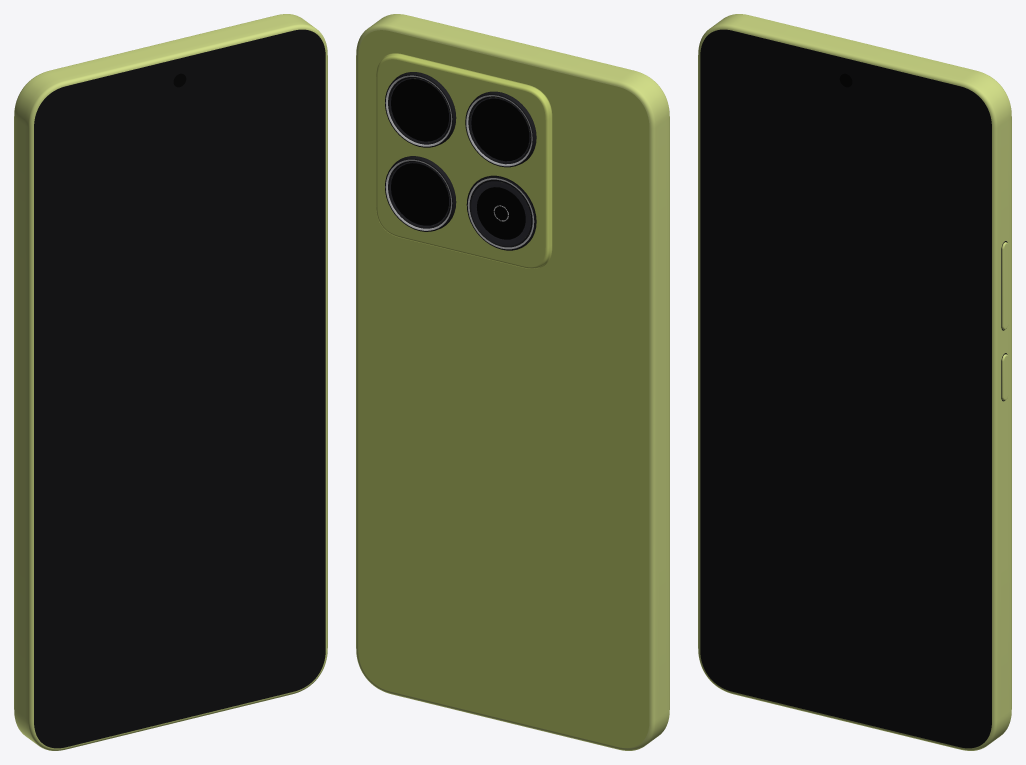
Rendered from xiaomi-14t.glb.
3 renders of one model, left to right at view 1: azimuth 30°, elevation 25°; view 2: azimuth 150°, elevation 25°; view 3: azimuth 330°, elevation 25°, orthographic.
Parts seen in each view (by area): view 1: body; view 2: body, camera; view 3: body, buttons.
Boxes of the visible parts, x1,y1,x2,y2 form: body: [14, 14, 327, 750]; body: [356, 14, 669, 750]; camera: [376, 53, 552, 268]; body: [698, 14, 1011, 750]; buttons: [1001, 241, 1008, 401].
Bounding box in the file's own units: 75.53 × 161 × 10.4.
